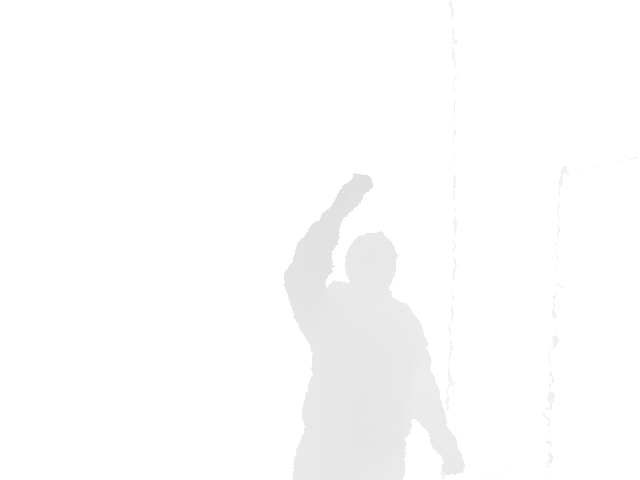hand: (325, 172, 376, 216)
head: (342, 230, 400, 287)
person: (282, 172, 465, 480)
